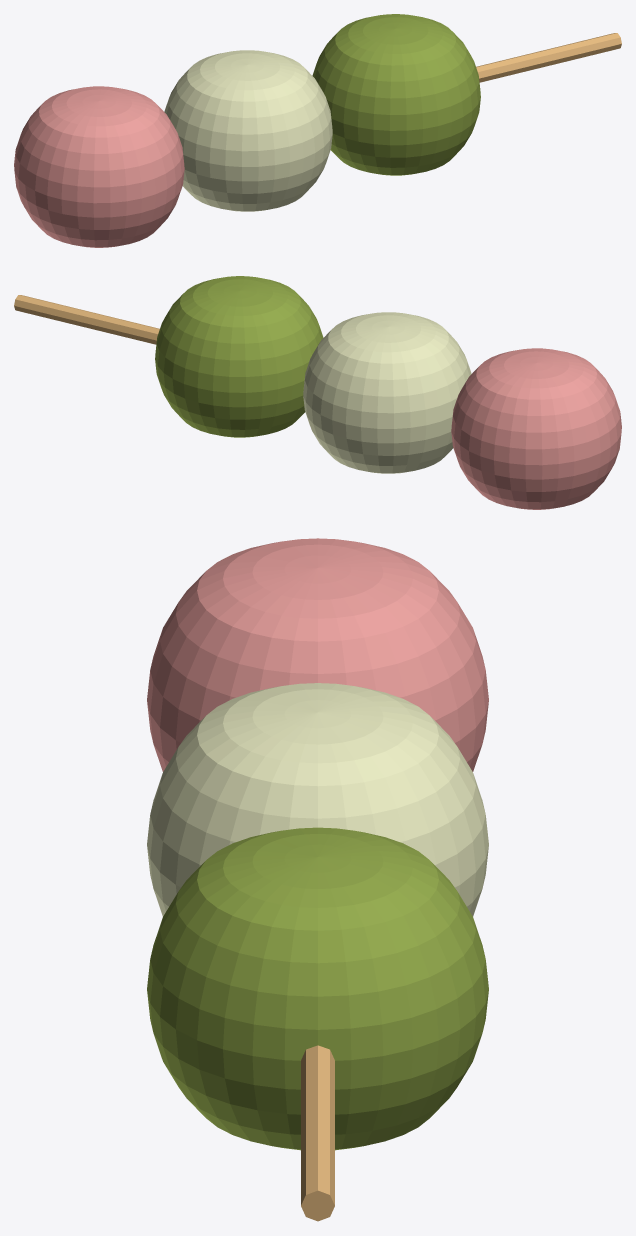
File: triColoredDango.fbx
3 views of the same model, one above another, from view 1: azimuth 30°, elevation 25°; view 2: azimuth 150°, elevation 25°; view 3: azimuth 270°, elevation 25° (orthographic). The views are drawn at different scales.
Parts seen in each view (by area): view 1: Cylinder; view 2: Cylinder; view 3: Cylinder.
Boxes of the visible parts, box(x1,y1,x2,y2) form: Cylinder: box(14, 14, 621, 247); Cylinder: box(14, 276, 621, 509); Cylinder: box(147, 538, 488, 1221).
Size of the model in its own units: 400 by 85.3 by 100.
